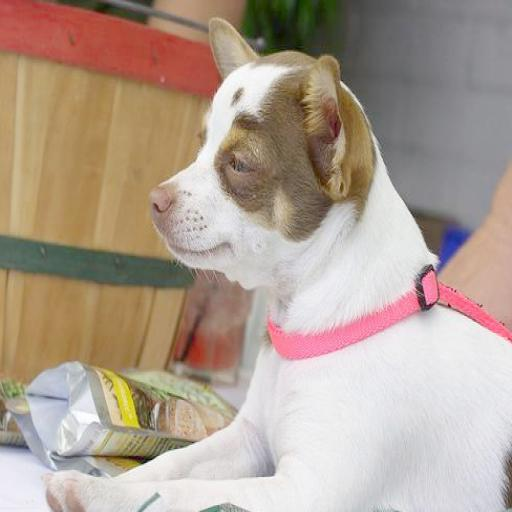dog_face: (149, 21, 348, 276)
